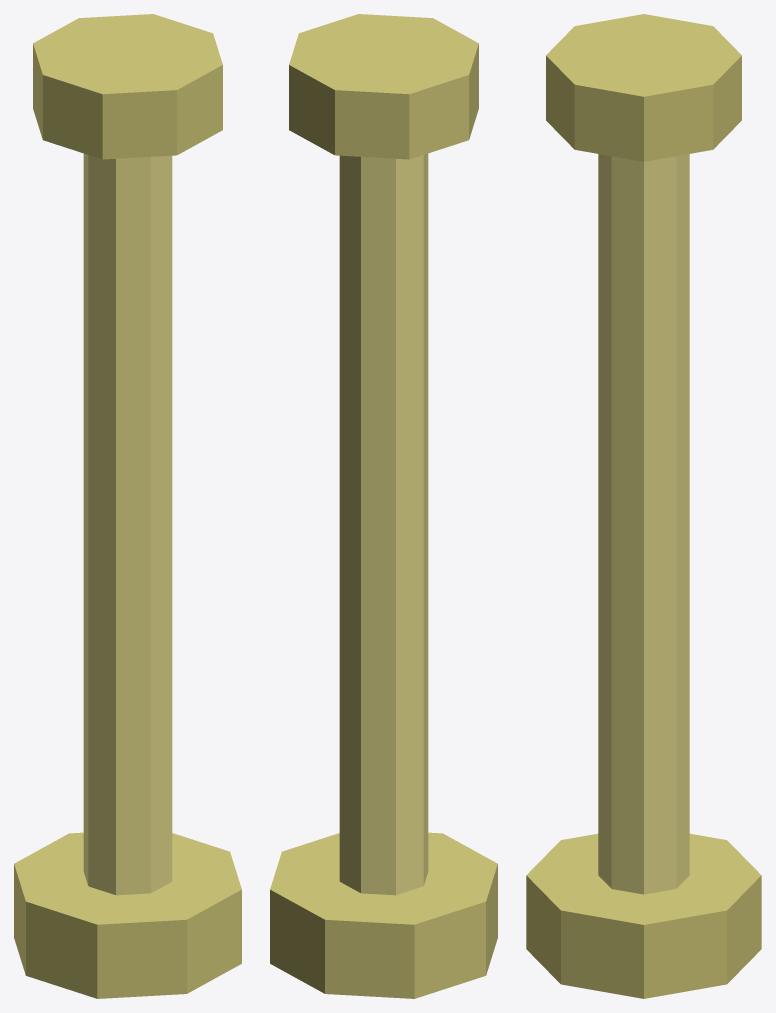
Rendered from PeaceMarker.glb.
The picture shows the model from 3 angles, left to right: view 1: azimuth 30°, elevation 25°; view 2: azimuth 150°, elevation 25°; view 3: azimuth 270°, elevation 25°; orthographic projection.
Parts seen in each view (by area): view 1: PeaceMarker; view 2: PeaceMarker; view 3: PeaceMarker.
Boxes of the visible parts, bbox=[...] form: PeaceMarker: bbox=[14, 14, 241, 998]; PeaceMarker: bbox=[270, 14, 497, 998]; PeaceMarker: bbox=[526, 14, 761, 998].
Bounding box in the file's own units: 0.72 × 3.02 × 0.72.
